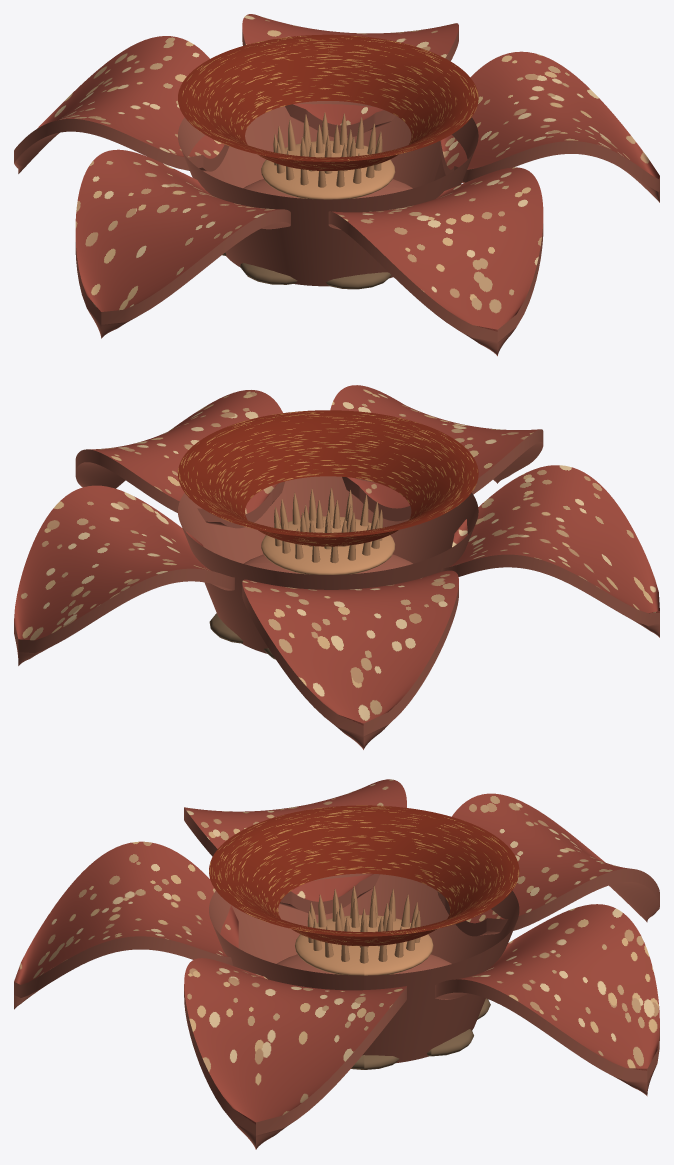
Rendered from earth3d3-rafflesia.glb.
3 renders of one model, top to bottom at view 1: azimuth 30°, elevation 25°; view 2: azimuth 150°, elevation 25°; view 3: azimuth 270°, elevation 25°, orthographic. The views are drawn at different scales.
Parts seen in each view (by area): view 1: Open diaphragm, Perigone lobe 1, Perigone tube, Perigone lobe 2, Perigone lobe 5, Perigone lobe 3, Central disk and processes, Perigone lobe 4, Fleshy lobe edge 2, Fleshy lobe edge 1, Fleshy lobe edge 3, Fleshy lobe edge 5 (+4 smaller); view 2: Open diaphragm, Perigone lobe 3, Perigone lobe 4, Perigone lobe 2, Perigone tube, Central disk and processes, Perigone lobe 5, Perigone lobe 1, Fleshy lobe edge 4, Fleshy lobe edge 3, Fleshy lobe edge 2, Fleshy lobe edge 5 (+4 smaller); view 3: Open diaphragm, Perigone lobe 5, Perigone lobe 4, Perigone tube, Perigone lobe 1, Perigone lobe 3, Central disk and processes, Perigone lobe 2, Fleshy lobe edge 5, Fleshy lobe edge 4, Fleshy lobe edge 1, Fleshy lobe edge 3 (+4 smaller).
Part boxes in pixels (<box>): Open diaphragm: <box>178,34,478,170</box>; Perigone lobe 1: <box>330,167,543,331</box>; Perigone tube: <box>178,101,478,286</box>; Perigone lobe 2: <box>75,149,279,313</box>; Perigone lobe 5: <box>440,51,659,178</box>; Perigone lobe 3: <box>37,36,224,158</box>; Central disk and processes: <box>261,112,395,199</box>; Perigone lobe 4: <box>242,14,458,125</box>; Fleshy lobe edge 2: <box>75,209,290,324</box>; Fleshy lobe edge 1: <box>328,211,543,342</box>; Fleshy lobe edge 3: <box>14,119,229,171</box>; Fleshy lobe edge 5: <box>440,140,659,191</box>; Open diaphragm: <box>178,410,478,546</box>; Perigone lobe 3: <box>242,570,458,725</box>; Perigone lobe 4: <box>14,485,211,640</box>; Perigone lobe 2: <box>449,465,659,613</box>; Perigone tube: <box>178,476,478,653</box>; Central disk and processes: <box>261,487,395,574</box>; Perigone lobe 5: <box>88,390,282,514</box>; Perigone lobe 1: <box>330,385,539,508</box>; Fleshy lobe edge 4: <box>14,568,234,653</box>; Fleshy lobe edge 3: <box>242,585,458,736</box>; Fleshy lobe edge 2: <box>441,554,659,625</box>; Fleshy lobe edge 5: <box>75,449,284,528</box>; Open diaphragm: <box>209,805,519,946</box>; Perigone lobe 5: <box>184,958,406,1124</box>; Perigone lobe 4: <box>454,904,659,1070</box>; Perigone tube: <box>209,873,519,1063</box>; Perigone lobe 1: <box>14,841,238,984</box>; Perigone lobe 3: <box>452,793,629,923</box>; Central disk and processes: <box>295,885,433,975</box>; Perigone lobe 2: <box>184,779,406,901</box>; Fleshy lobe edge 5: <box>184,985,406,1135</box>; Fleshy lobe edge 4: <box>435,979,659,1081</box>; Fleshy lobe edge 1: <box>14,936,232,997</box>; Fleshy lobe edge 3: <box>437,868,659,936</box>.
Bounding box in the file's own units: 1 × 0.2517 × 0.9649.
Materials: 5 (2 with a texture image).
